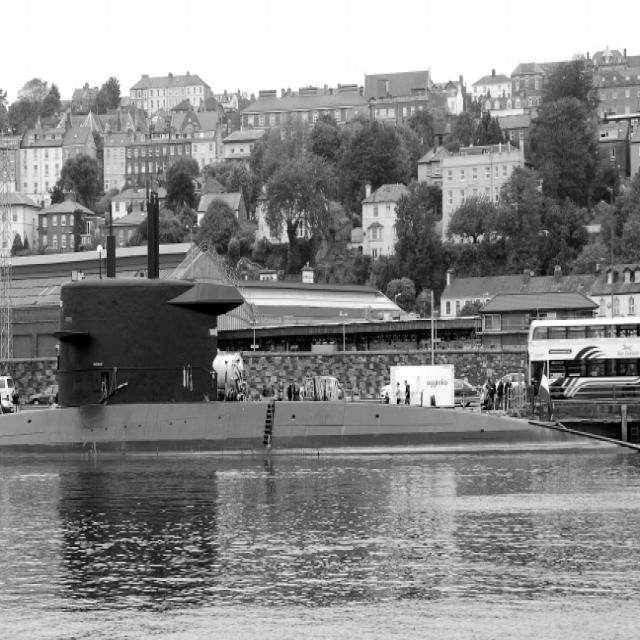submarine: (1, 283, 640, 466)
